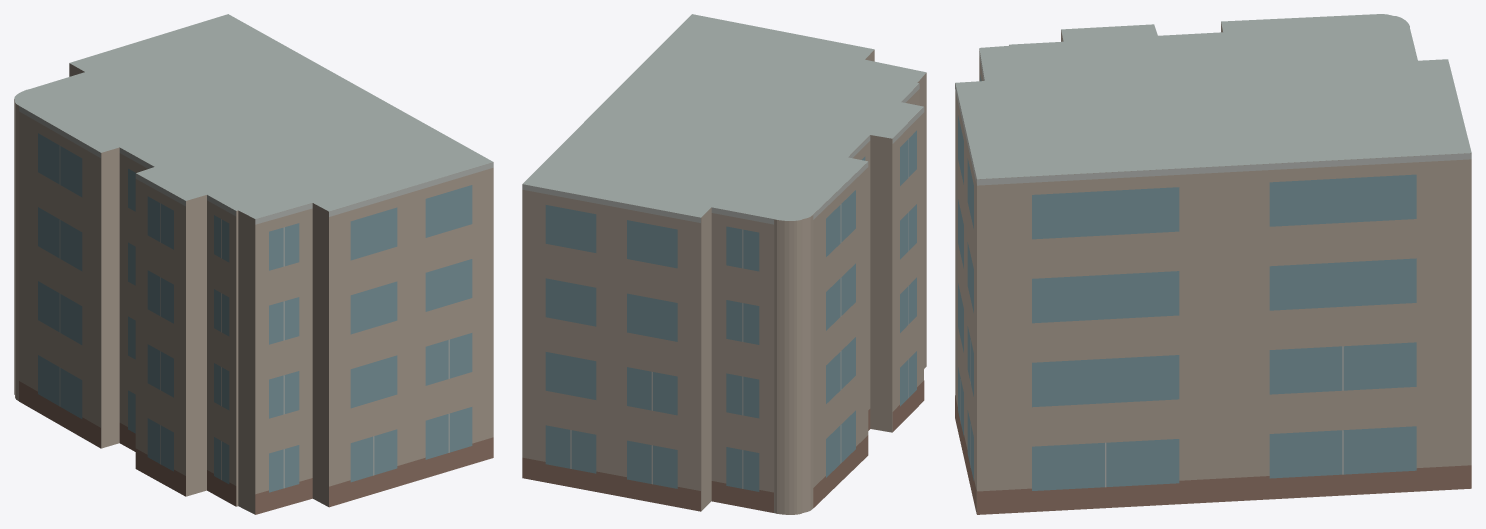
File: survey-upis-32926645.glb
3 views of the same model, side by side, from view 1: azimuth 30°, elevation 25°; view 2: azimuth 150°, elevation 25°; view 3: azimuth 270°, elevation 25° (orthographic). The views are drawn at different scales.
Parts seen in each view (by area): view 1: survey-upis-32926645.tmp; view 2: survey-upis-32926645.tmp; view 3: survey-upis-32926645.tmp.
Boxes of the visible parts, <box> form: survey-upis-32926645.tmp: <box>14,14,493,514</box>; survey-upis-32926645.tmp: <box>522,14,926,514</box>; survey-upis-32926645.tmp: <box>955,14,1471,514</box>.
Size of the model in its own units: 13.69 by 12.95 by 18.07.
